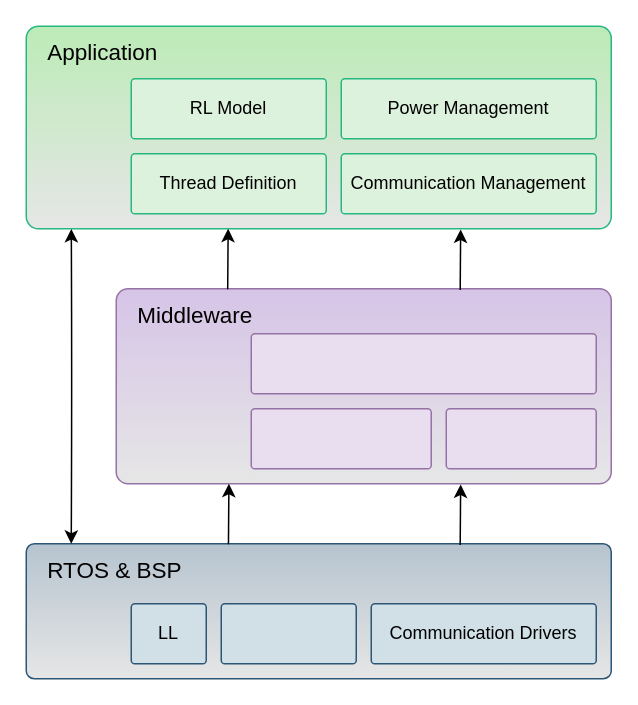
Some shapes in this 638 by 705 pixel diagram are drawn without their labels. The shapes that lost their labels are listed below. From the top down, each one's box as (x1, y1, x2, y2) in pixels, then its label:
(250, 332, 596, 394): RF Module Framework
(250, 407, 431, 469): Sensor Frameworks
(445, 407, 596, 469): RL Framework
(220, 602, 356, 664): FreeRTOS
